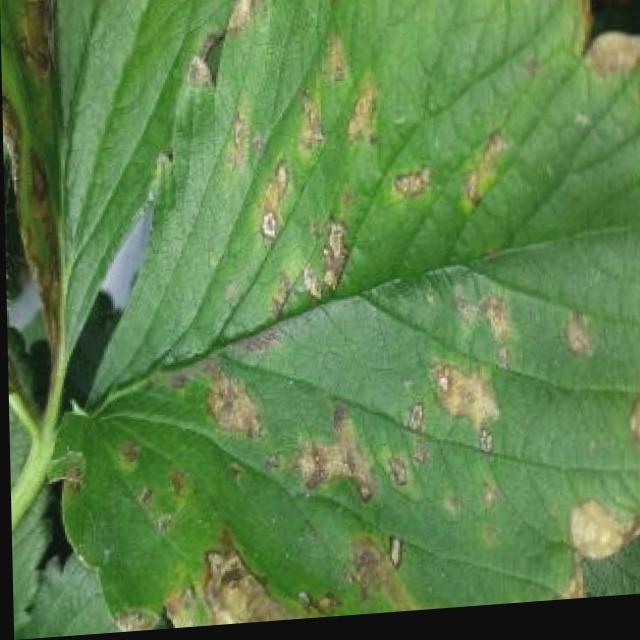Angular Leafspot: (46, 0, 640, 634), (0, 0, 242, 389)
